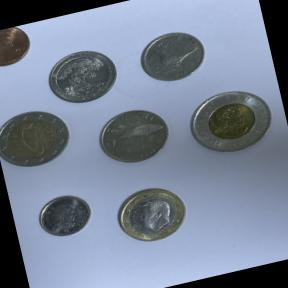1 Euro-B: (104, 174, 198, 254)
2 Euro-B: (0, 101, 82, 177)
Canada-10cent-B: (30, 185, 100, 246)
Canada-2Dollar-B: (179, 78, 282, 166)
Croatia-2Kune-B: (90, 99, 178, 173)
US-1cent-B: (0, 23, 37, 76)
US-25cent-B: (40, 41, 126, 112)
